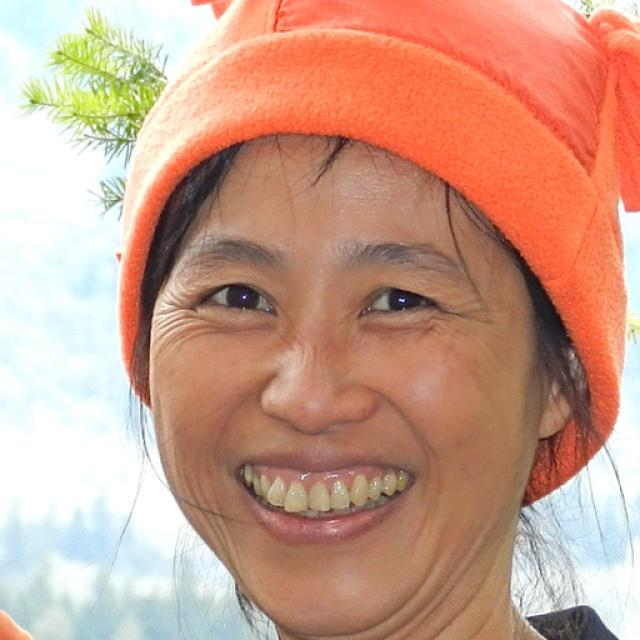happy: (146, 95, 539, 625)
